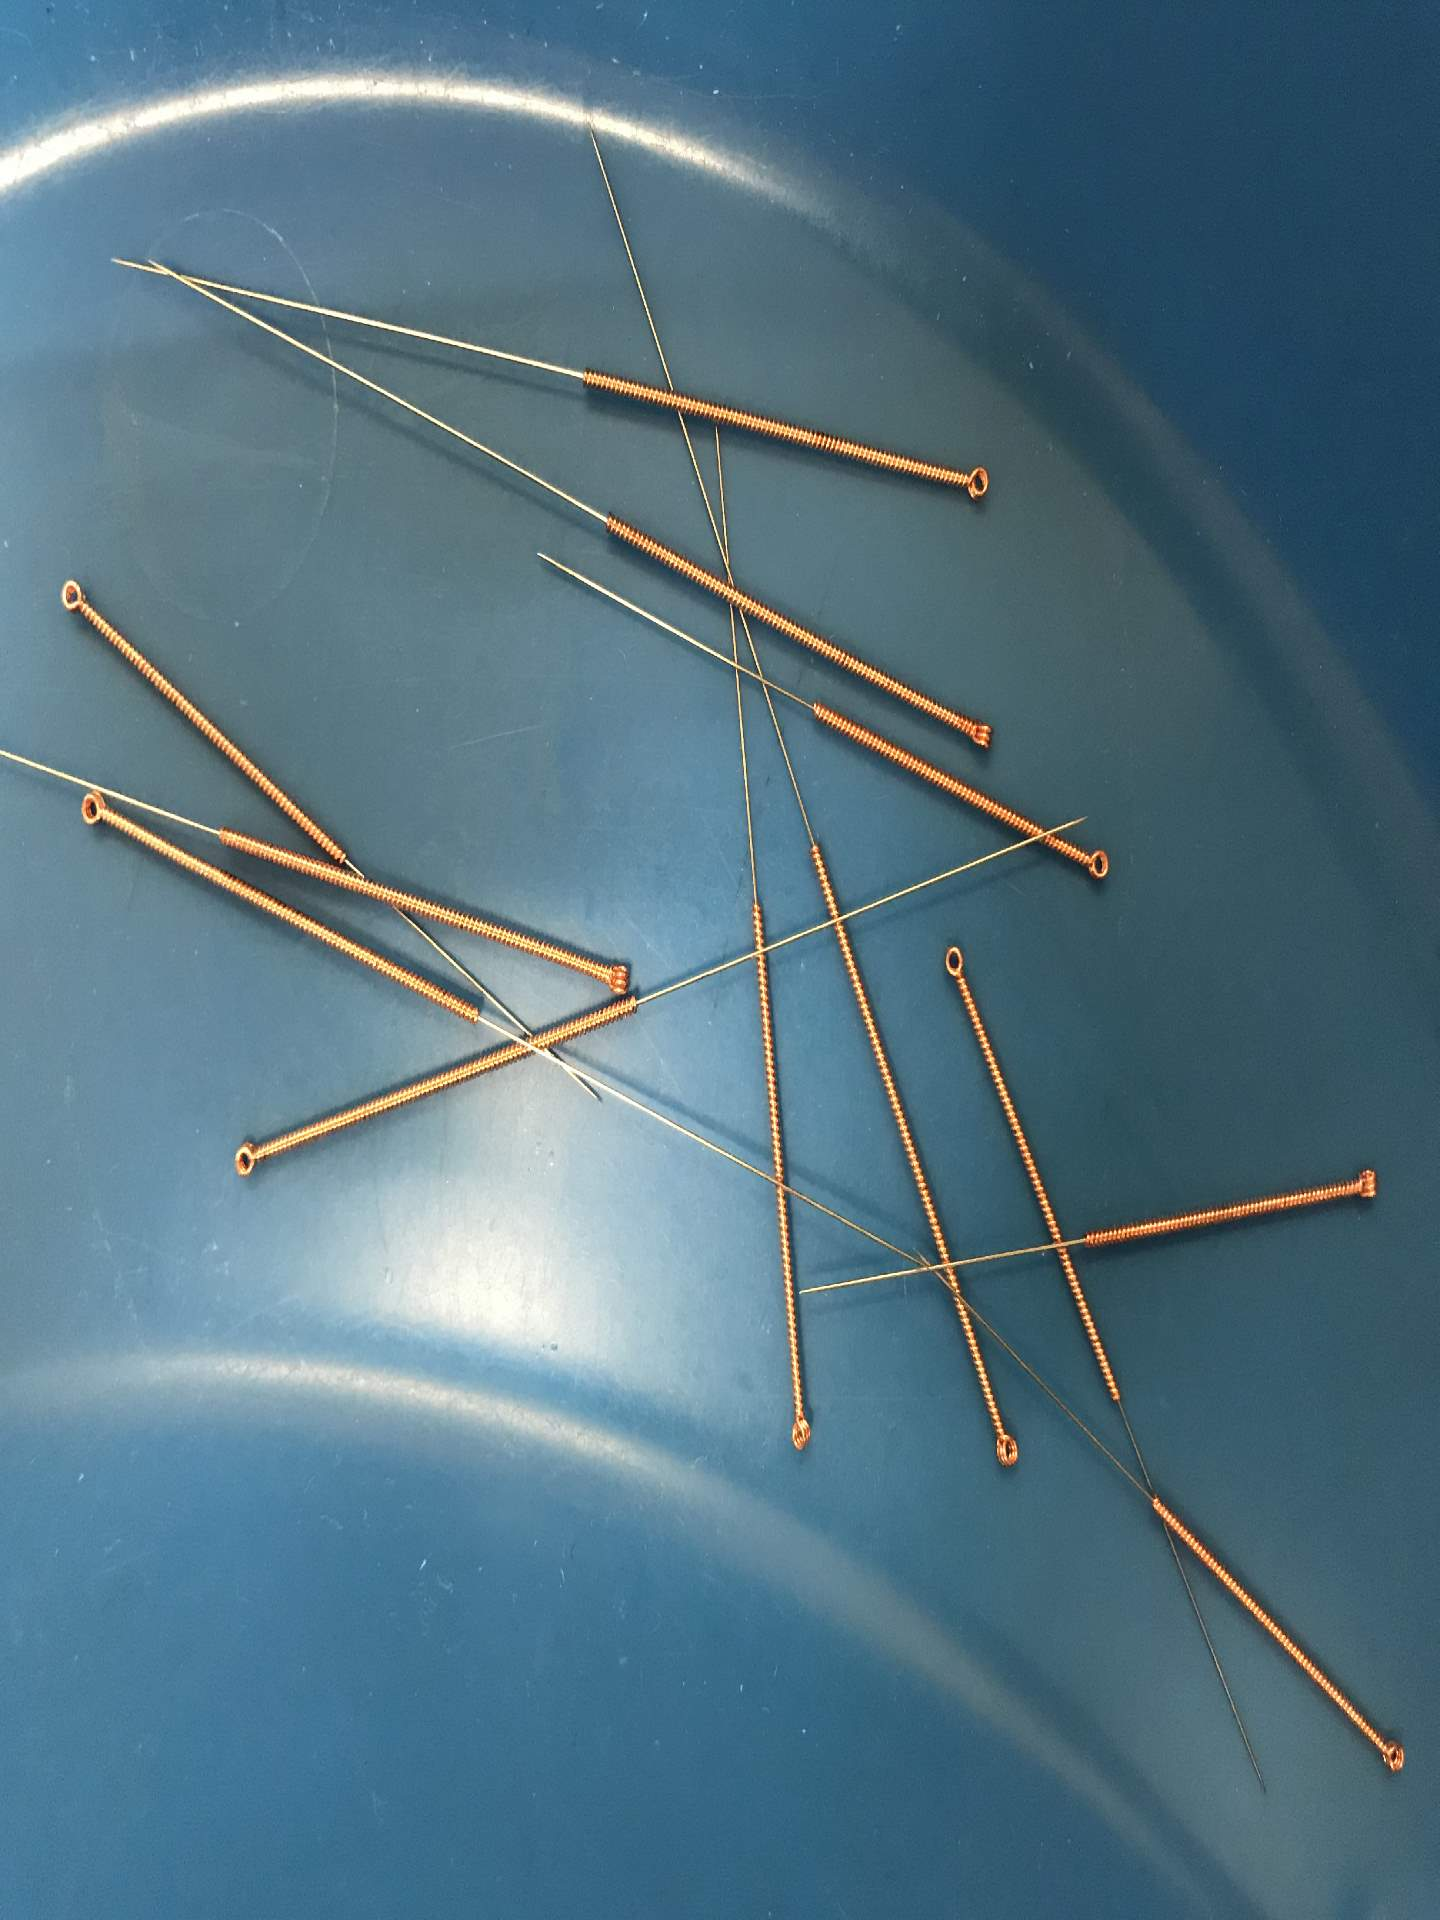needle: (44, 561, 101, 629), (65, 780, 126, 841), (1364, 1720, 1416, 1785), (929, 930, 979, 996), (776, 1395, 821, 1468), (579, 949, 644, 999), (980, 1415, 1029, 1482), (945, 455, 1000, 513), (951, 705, 1004, 763), (219, 1128, 272, 1185), (1337, 1157, 1389, 1214), (1066, 838, 1119, 890)
